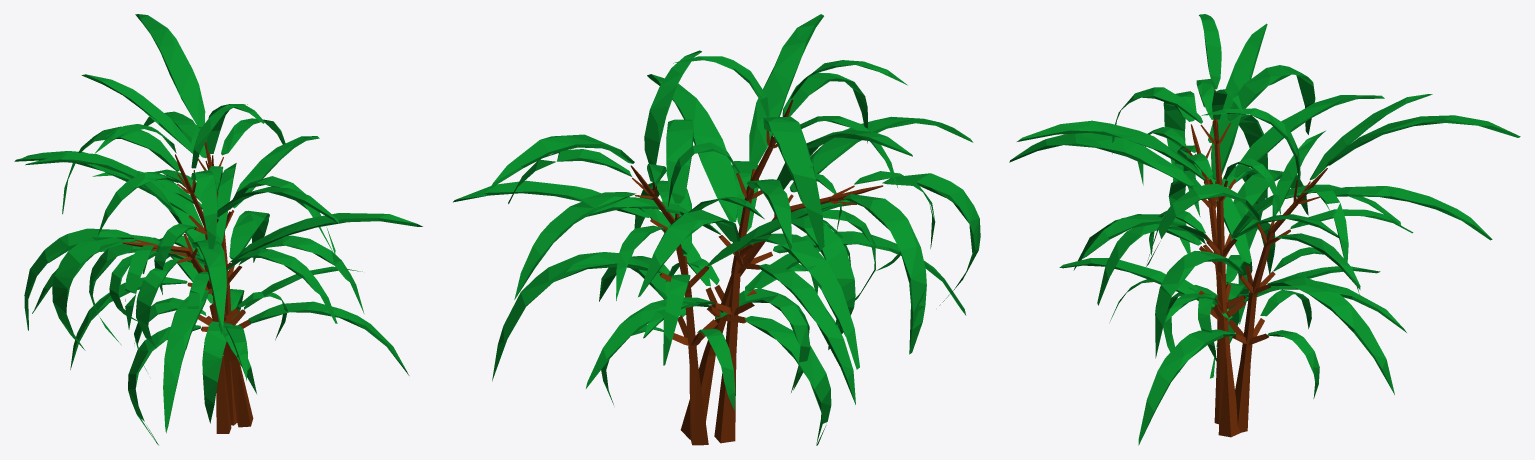
The model's file is ShrubDraca02.fbx.
3 views of the same model, side by side, from view 1: azimuth 30°, elevation 25°; view 2: azimuth 150°, elevation 25°; view 3: azimuth 270°, elevation 25° (orthographic). The views are drawn at different scales.
Parts seen in each view (by area): view 1: ShrubDraca02_LOD0; view 2: ShrubDraca02_LOD0; view 3: ShrubDraca02_LOD0.
Part boxes in pixels (box(x1,y1,x2,y2)): ShrubDraca02_LOD0: box(14, 14, 422, 445); ShrubDraca02_LOD0: box(453, 14, 980, 445); ShrubDraca02_LOD0: box(1009, 14, 1520, 445).
Size of what is drawn, in the model's own units: 108 by 98.02 by 130.
